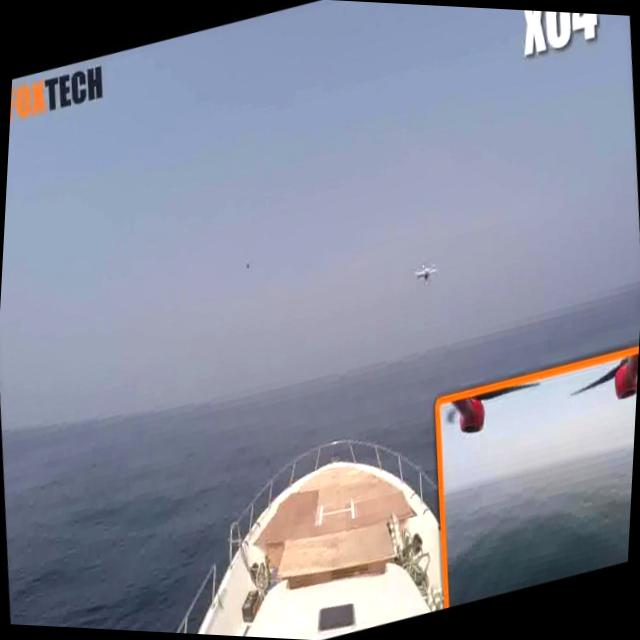drone: (414, 256, 439, 287)
